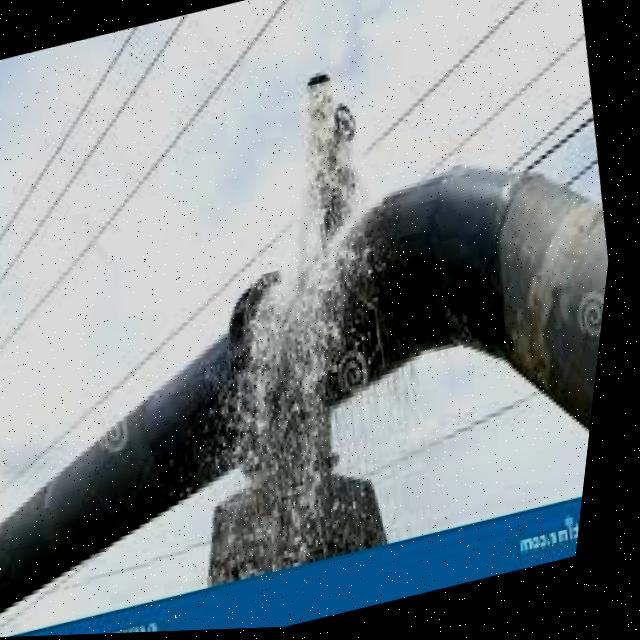corrosion: (105, 44, 466, 568)
